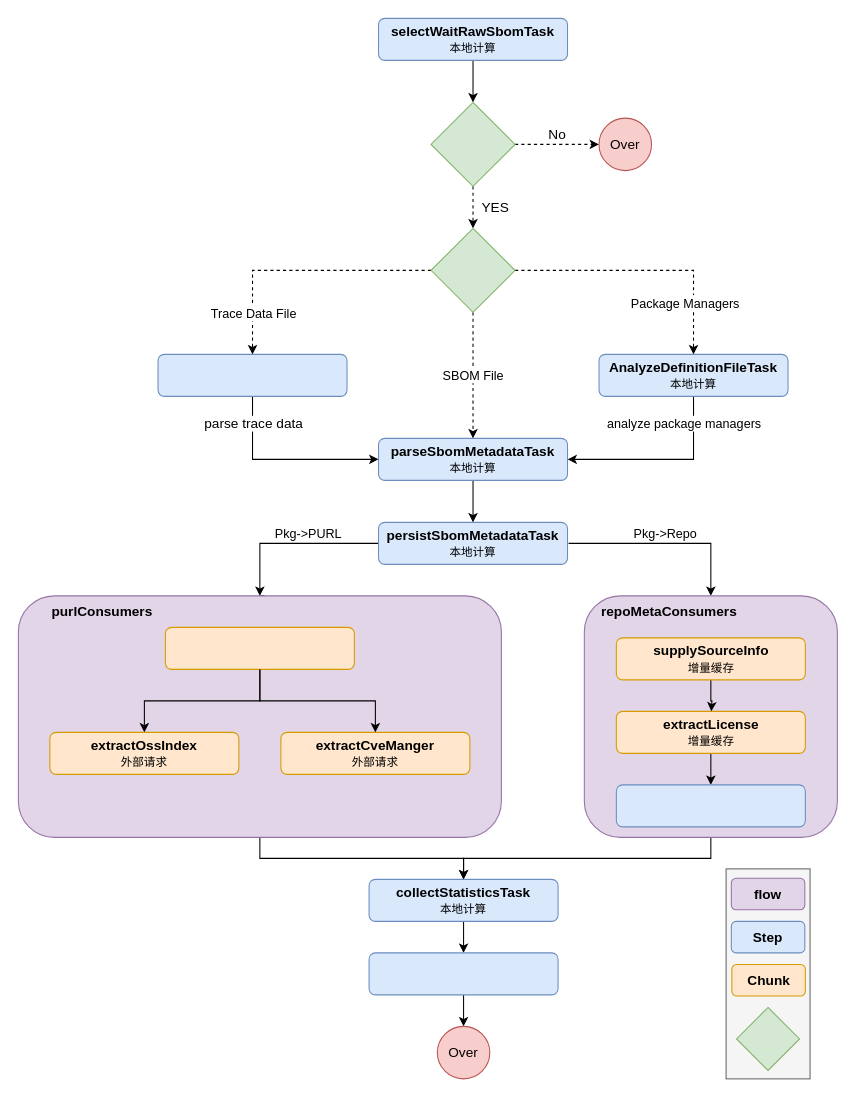
This 856x1097 diagram has some shape labels left out. The shapes that lost their labels are listed below. From the top down, each one's box as (x1, y1, x2, y2) in pixels, then its label:
(430, 101, 515, 186): has wait job
(430, 227, 515, 312): skipAnalyzeSbomContentDecider
(157, 353, 347, 396): AnalyzeTraceDataTask 本地计算
(164, 626, 354, 669): resolveMavenDepTask 增量缓存
(615, 784, 805, 827): fillUpLicense 本地计算
(368, 952, 558, 995): readSbomEndTask 本地计算
(736, 1006, 800, 1070): Decider
